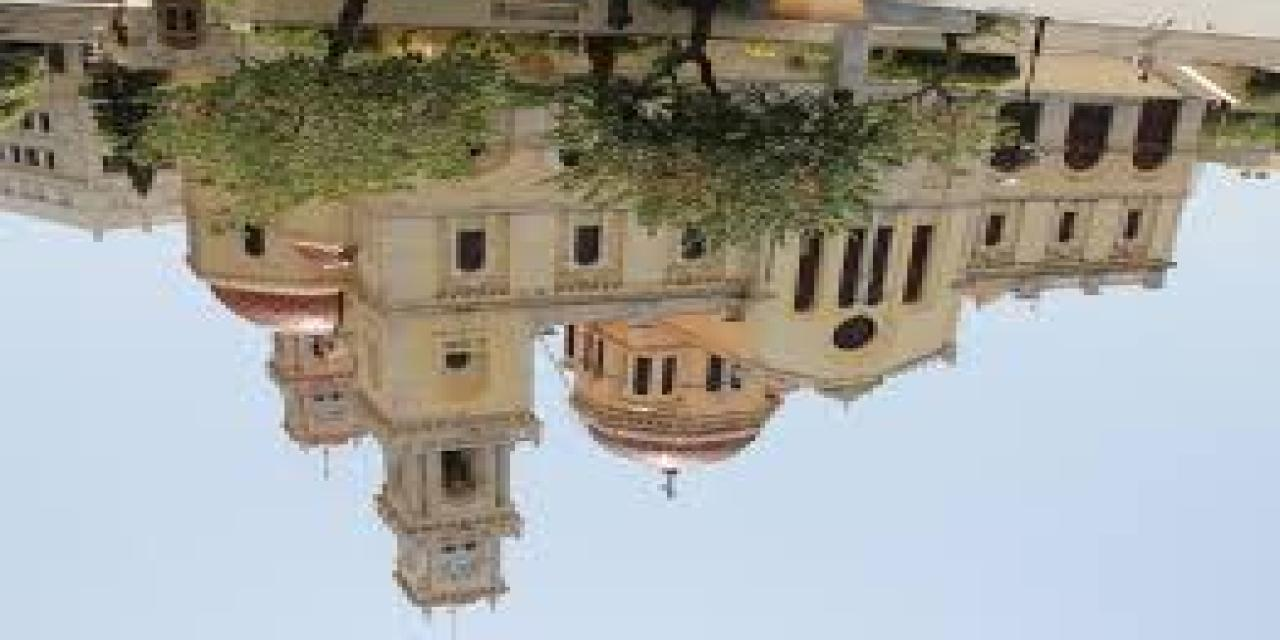Agios Minas: (180, 67, 1201, 633)
